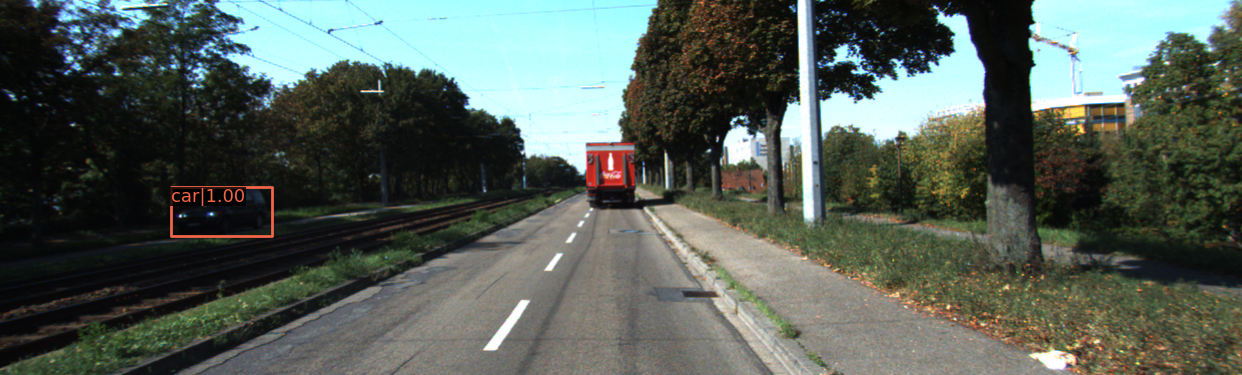car: (175, 189, 273, 237)
